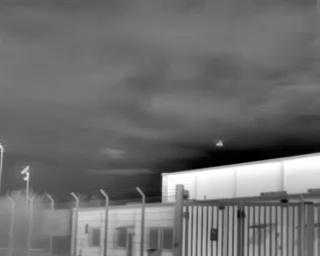HELICOPTER: (213, 137, 228, 151)
